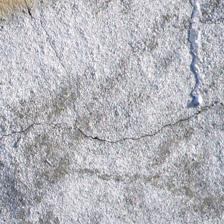Crack: (2, 50, 217, 99)
